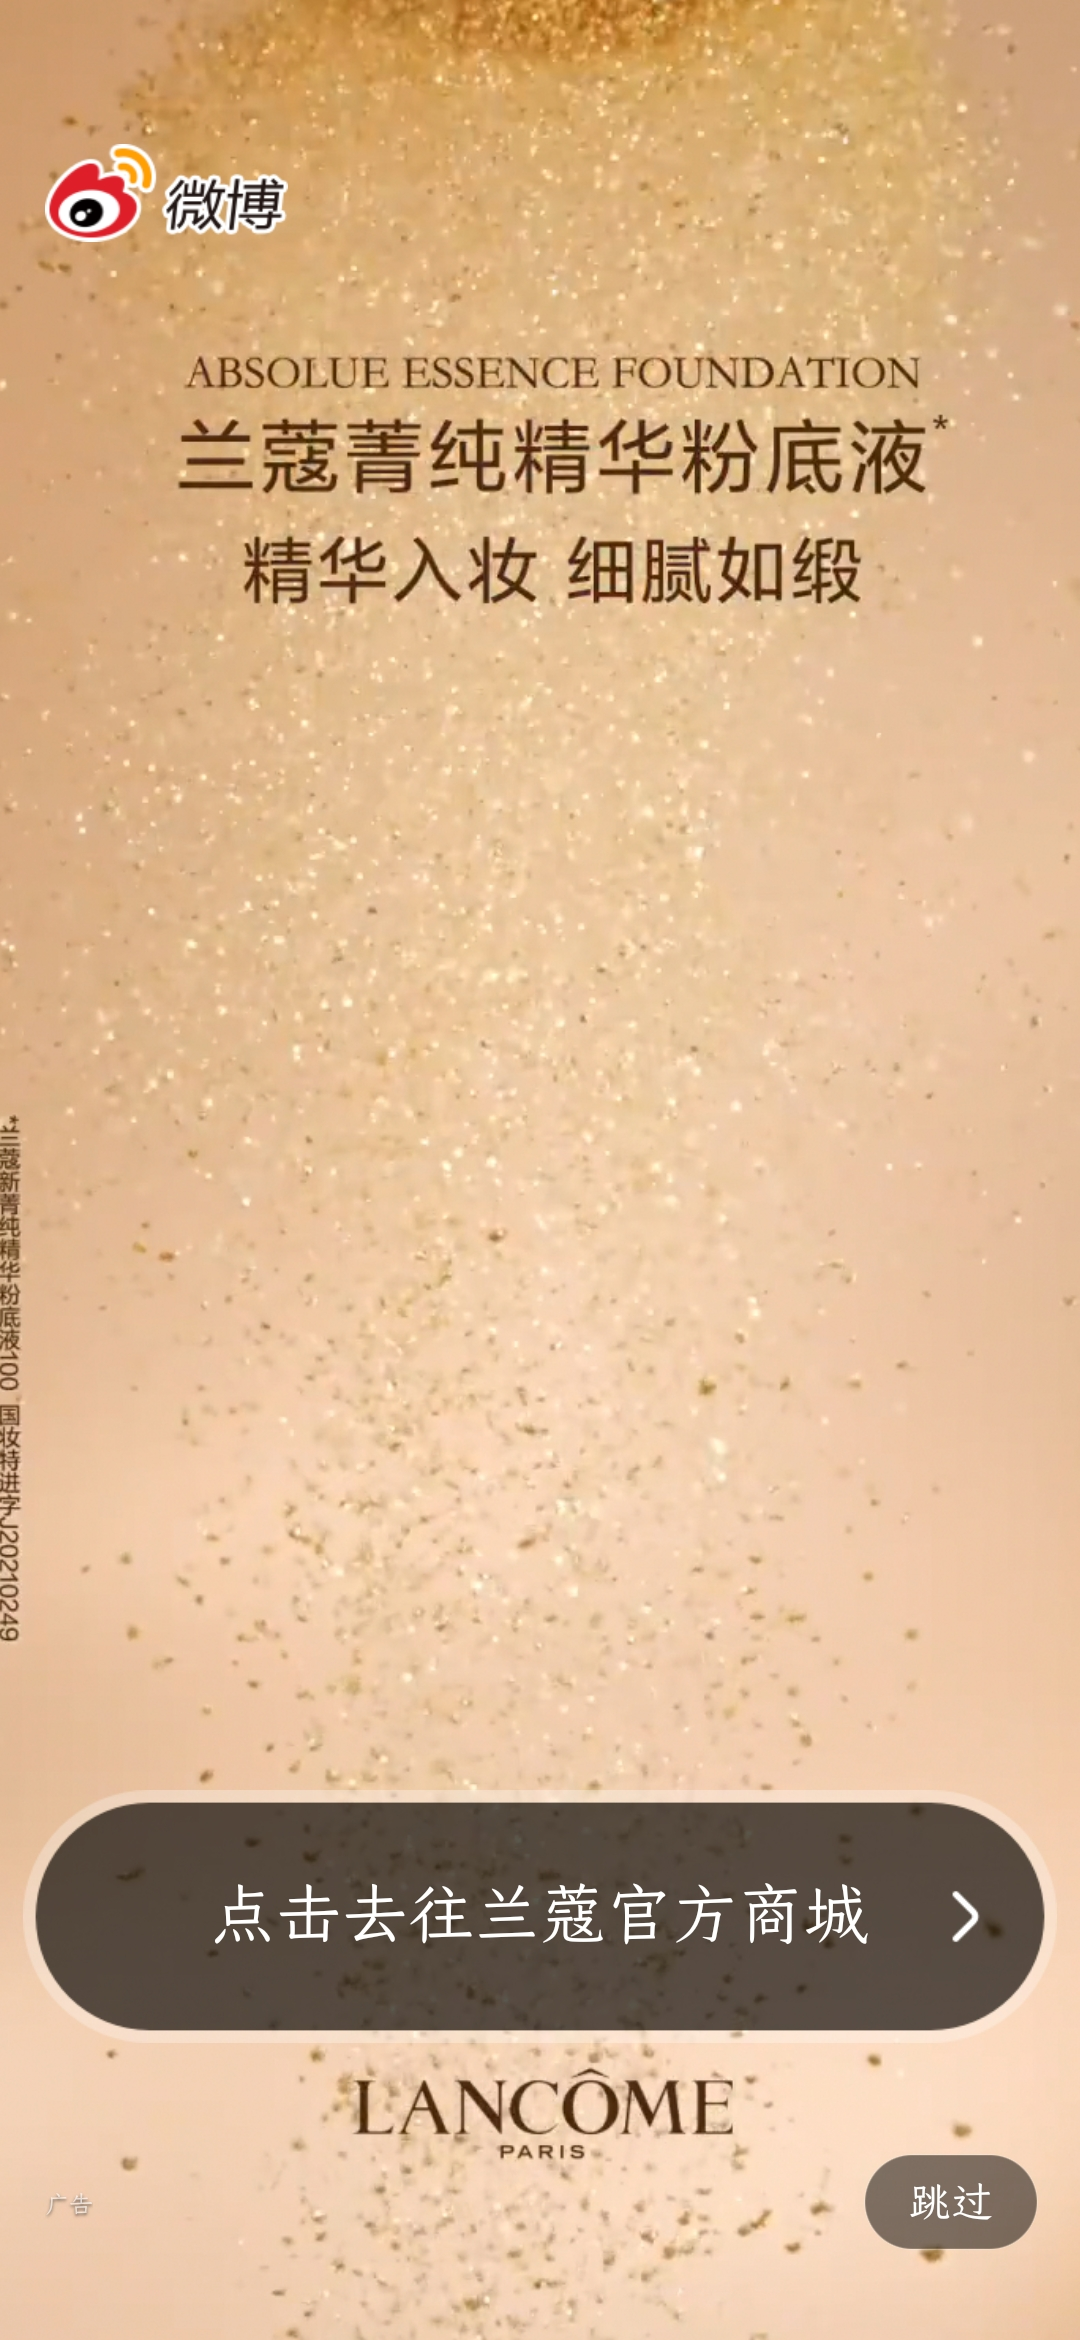skip: (904, 2156, 1020, 2244)
